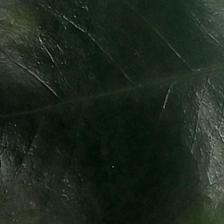healthy: (6, 7, 219, 224)
